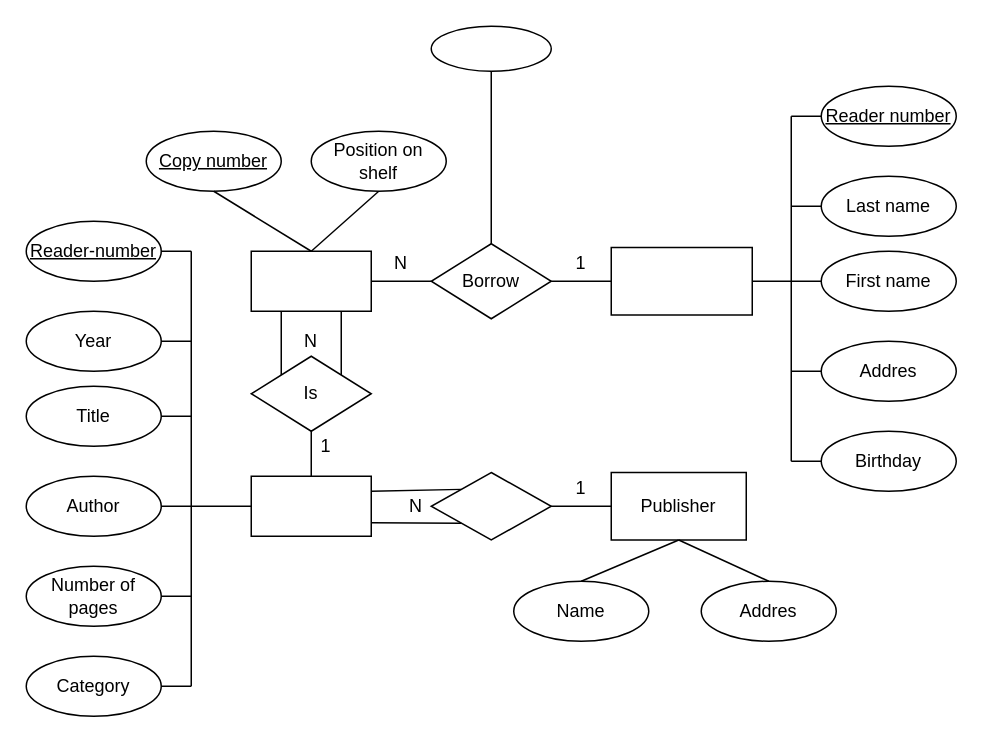
The diagram is 983 pixels wide and 743 high, and some of its shapes have lost their labels. The shapes that lost their labels are listed below. From the top down, each one's box as (x1, y1, x2, y2) in pixels, then its label:
(430, 25, 551, 71): Return date
(250, 250, 371, 311): Copy
(610, 246, 752, 315): Reader
(250, 475, 371, 536): Book
(430, 471, 551, 540): Of
